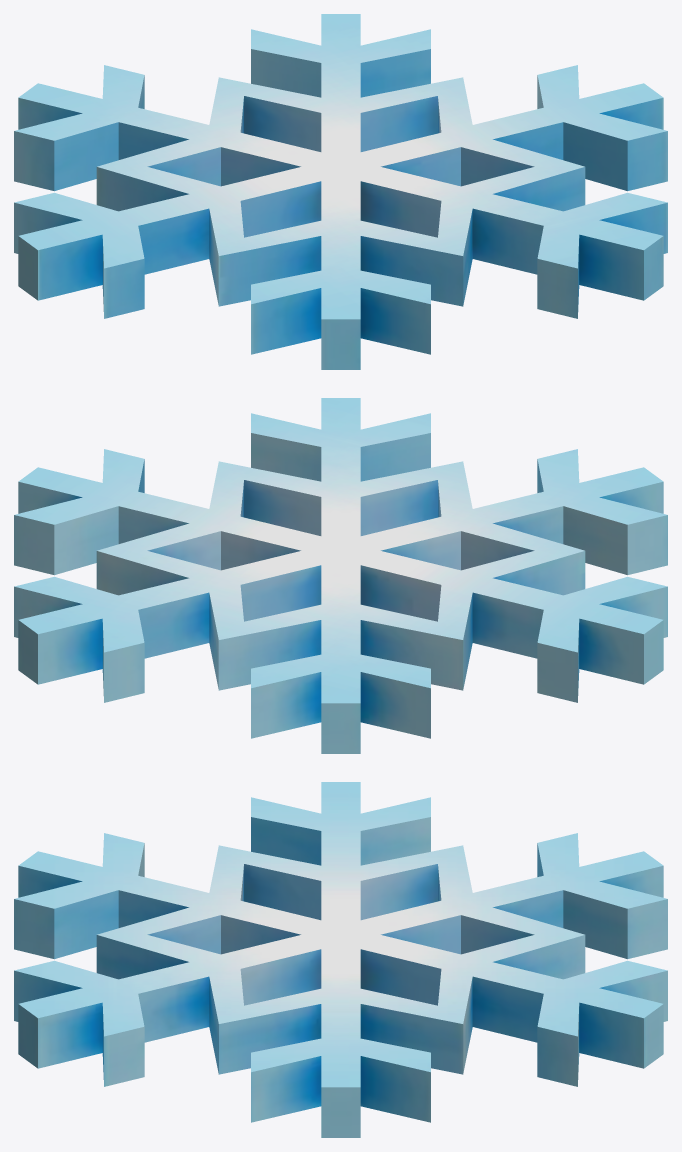
Rendered from snowflake.glb.
3 renders of one model, top to bottom at view 1: azimuth 30°, elevation 25°; view 2: azimuth 150°, elevation 25°; view 3: azimuth 270°, elevation 25°, orthographic.
Visible parts, largest first — view 1: Snowflake; view 2: Snowflake; view 3: Snowflake.
Part boxes in pixels (x1,y1,x2,y2): Snowflake: [14, 14, 667, 369]; Snowflake: [14, 398, 667, 753]; Snowflake: [14, 782, 667, 1137].
Bounding box in the file's own units: 3.21 × 0.247 × 2.9.
1 material, 1 textured.
